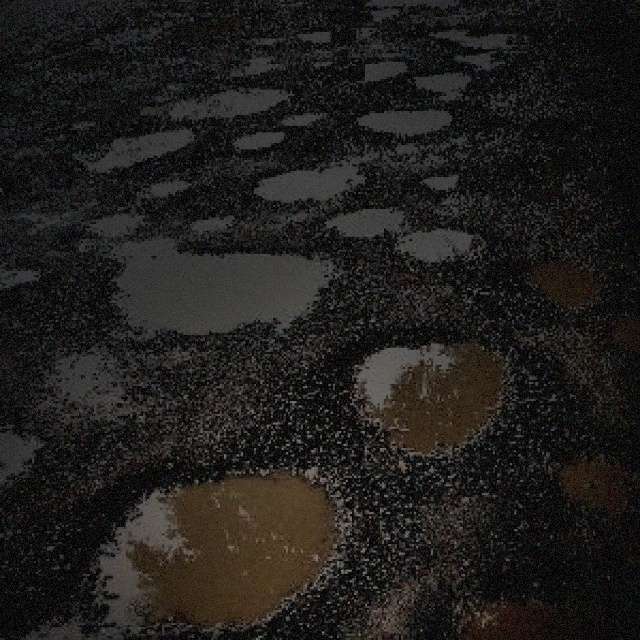pothole: (68, 456, 348, 634), (94, 239, 343, 343), (343, 328, 512, 454), (408, 561, 618, 638), (537, 433, 638, 521), (138, 79, 296, 122), (516, 248, 606, 312), (77, 124, 200, 168), (422, 21, 538, 66), (248, 158, 369, 198), (391, 224, 488, 267), (0, 420, 53, 488), (352, 100, 450, 134), (320, 202, 407, 236), (333, 56, 418, 81), (412, 68, 476, 92), (606, 309, 638, 348), (230, 128, 284, 151), (420, 169, 461, 192)
